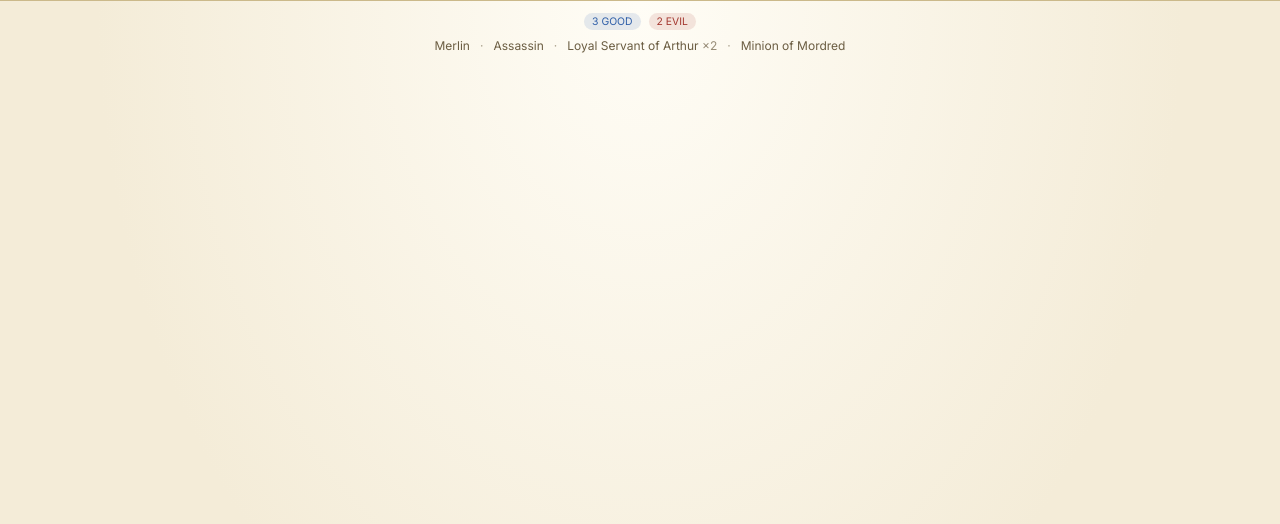
CharacterFooter › only shows one description at a time
Click the button "Merlin" at coordinates (452, 46), box top-left (430, 36), bottom-right (474, 55)
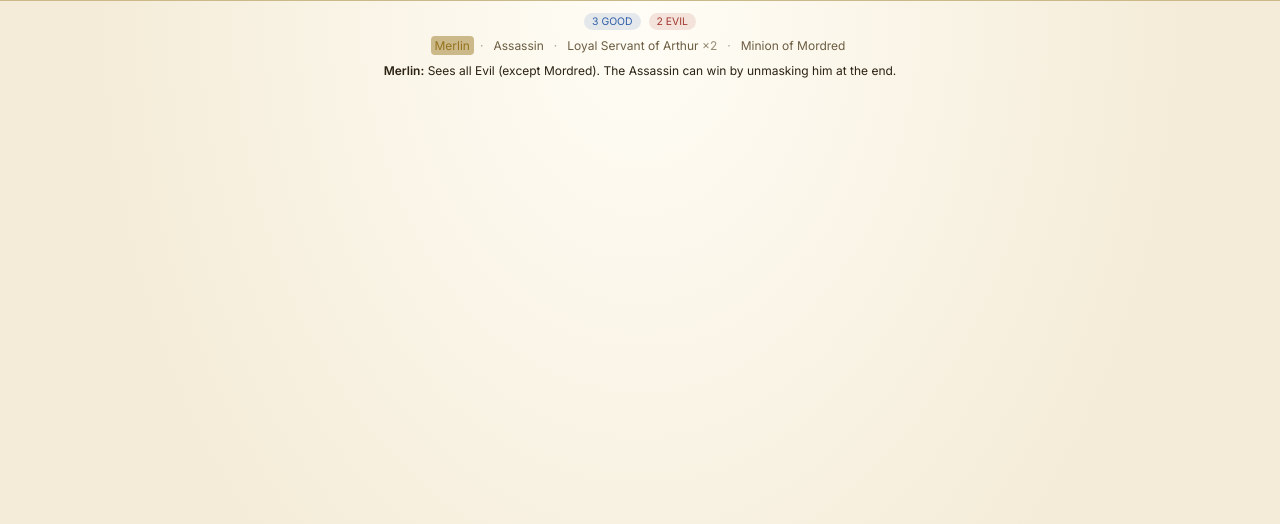
Expected: the text "Sees all Evil" is shown, top-left (428, 63), bottom-right (896, 78)
Click the button "Assassin" at coordinates (519, 46), box top-left (489, 36), bottom-right (548, 55)
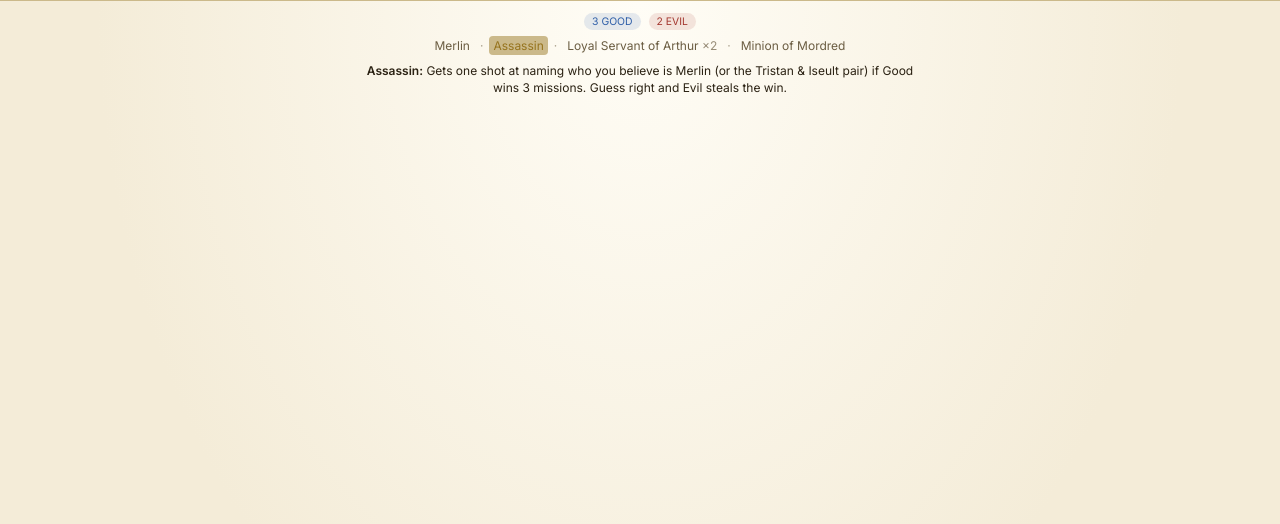
Expected: the text "Sees all Evil" is gone
Expected: the text "Gets one shot at naming who you believe is Merlin" is shown, top-left (426, 63), bottom-right (913, 95)
